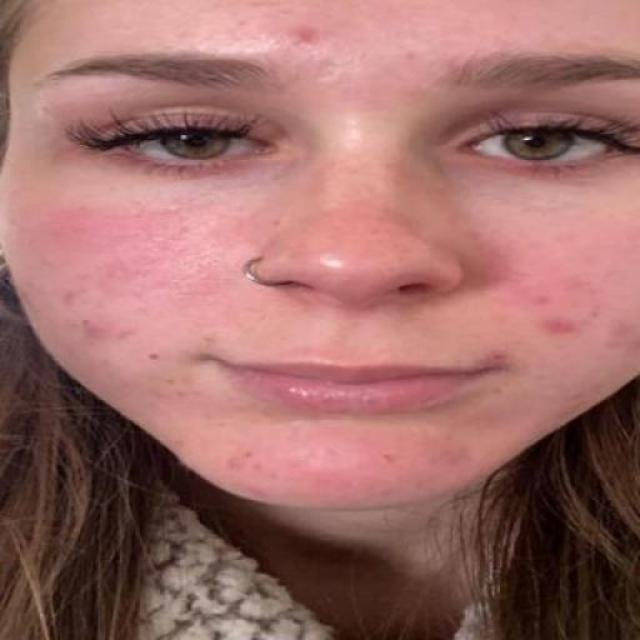Acne: (517, 231, 640, 366), (226, 444, 474, 478), (63, 290, 157, 366), (286, 15, 348, 96)
